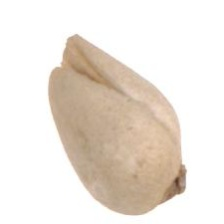L1: (48, 33, 96, 86), (166, 162, 188, 203)
L2: (48, 34, 187, 216)
